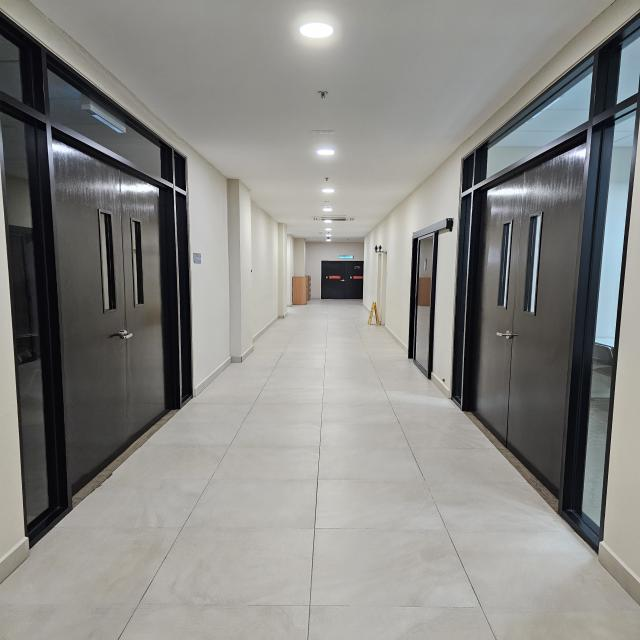door: (463, 134, 606, 506), (44, 126, 186, 491), (406, 227, 438, 380), (319, 256, 367, 302)
footpath: (218, 374, 442, 640), (292, 311, 352, 372)
obstacle: (289, 271, 313, 305), (366, 301, 382, 325)
